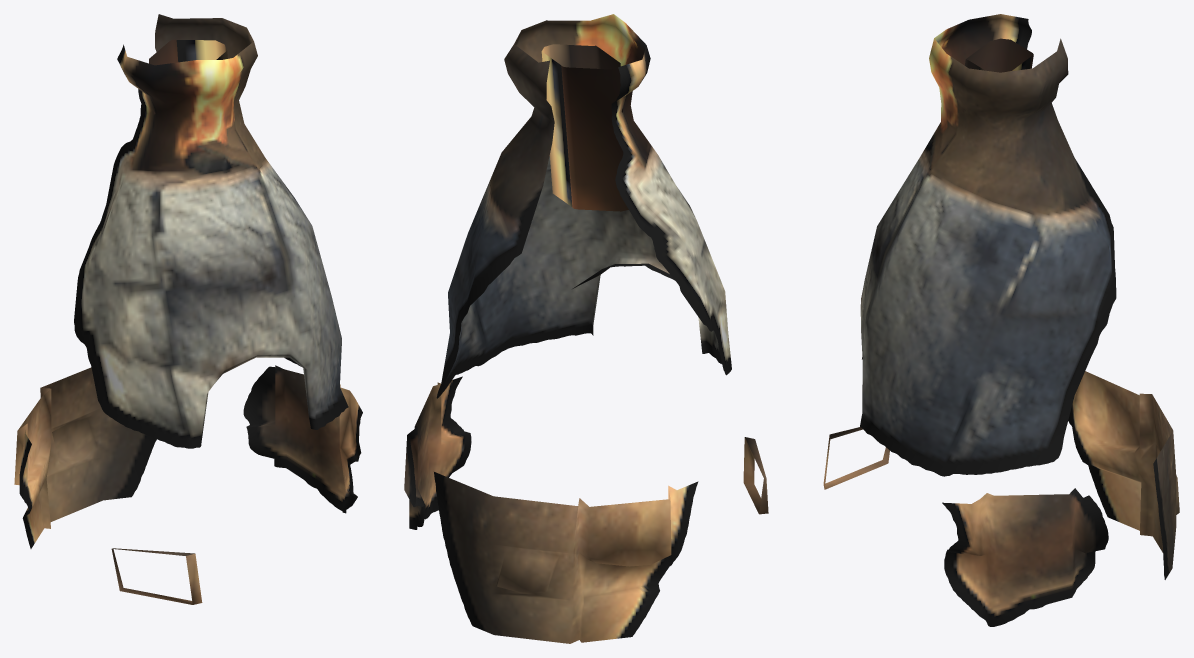
File: Furnace.fbx
3 views of the same model, side by side, from view 1: azimuth 30°, elevation 25°; view 2: azimuth 150°, elevation 25°; view 3: azimuth 270°, elevation 25° (orthographic).
Parts seen in each view (by area): view 1: Furnace; view 2: Furnace; view 3: Furnace.
Boxes of the visible parts, x1,y1,x2,y2 form: Furnace: (14, 14, 362, 604); Furnace: (404, 14, 768, 643); Furnace: (823, 14, 1179, 626).
Bounding box in the file's own units: 1.35 × 2.19 × 1.43.
